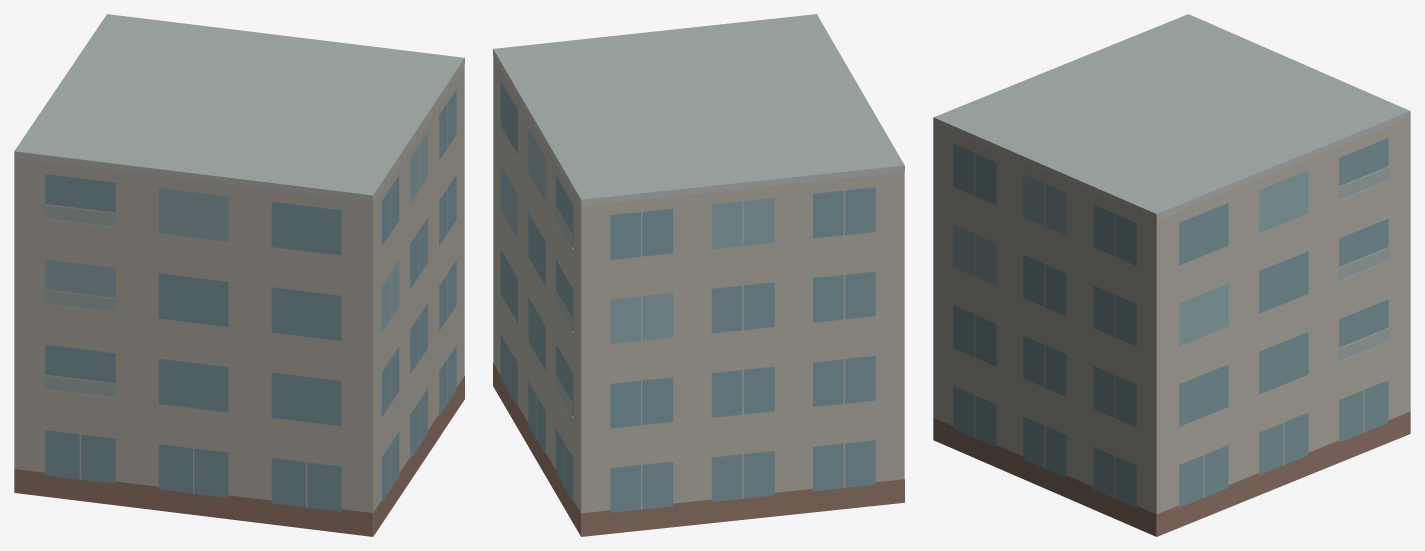
Rendered from survey-upis-32597802.glb.
3 views of the same model, side by side, from view 1: azimuth 30°, elevation 25°; view 2: azimuth 150°, elevation 25°; view 3: azimuth 270°, elevation 25° (orthographic). The views are drawn at different scales.
Parts seen in each view (by area): view 1: survey-upis-32597802.tmp; view 2: survey-upis-32597802.tmp; view 3: survey-upis-32597802.tmp.
Part boxes in pixels (x1,y1,x2,y2): survey-upis-32597802.tmp: (14, 14, 464, 536); survey-upis-32597802.tmp: (493, 14, 904, 536); survey-upis-32597802.tmp: (933, 14, 1410, 536).
Bounding box in the file's own units: 17.15 × 12.9 × 17.28.
